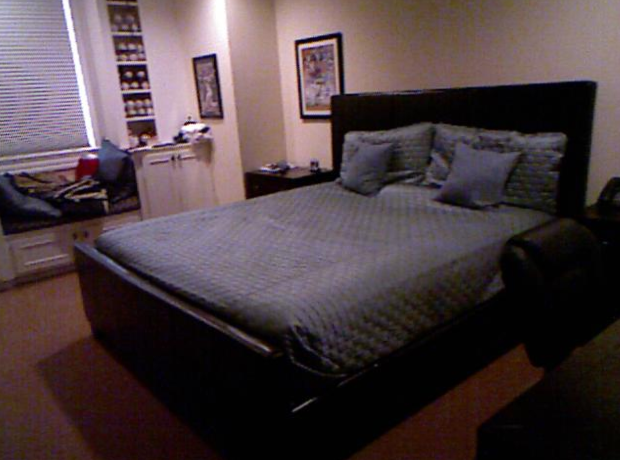cabinet: (244, 165, 335, 192)
cabinetDoor: (14, 231, 76, 267), (151, 153, 176, 214), (180, 149, 204, 210), (80, 222, 117, 241)
window: (0, 3, 77, 145)
